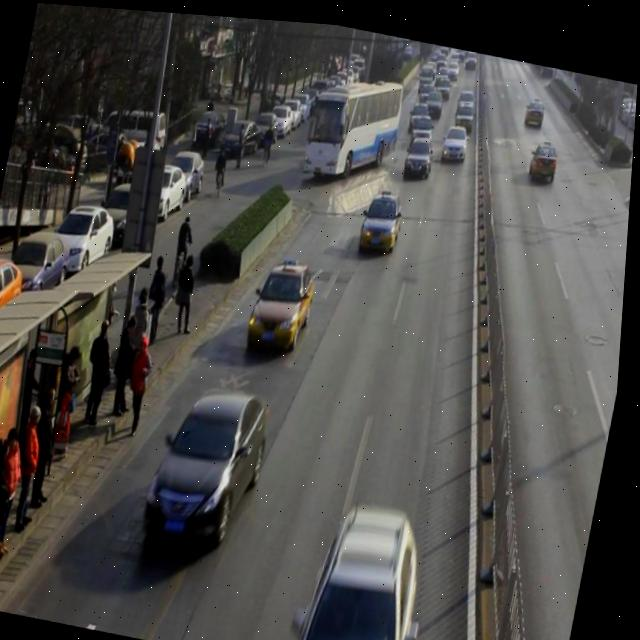car: (145, 370, 284, 553), (298, 481, 445, 640), (249, 253, 323, 351), (361, 183, 408, 253), (404, 127, 439, 174), (529, 133, 563, 175), (408, 105, 438, 144), (442, 117, 471, 156)
van: (301, 63, 407, 181)
